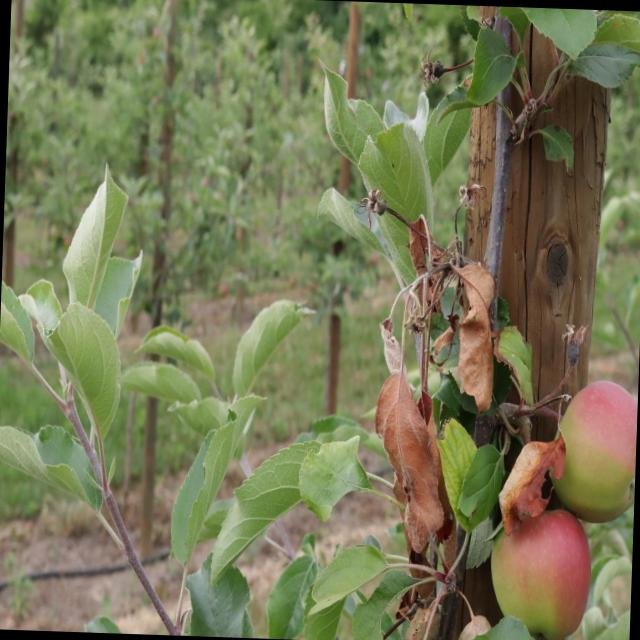-FireBlight-: (370, 320, 466, 582), (398, 214, 502, 402)
